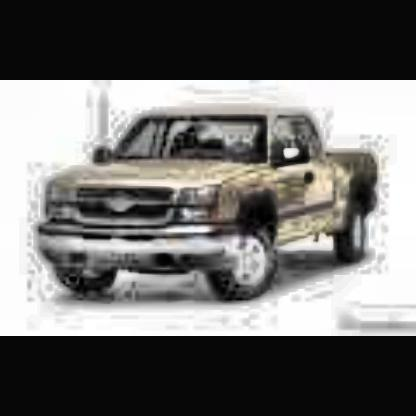Chevrolet Silverado 1500 Classic Extended Cab 2007: (39, 107, 382, 315)
